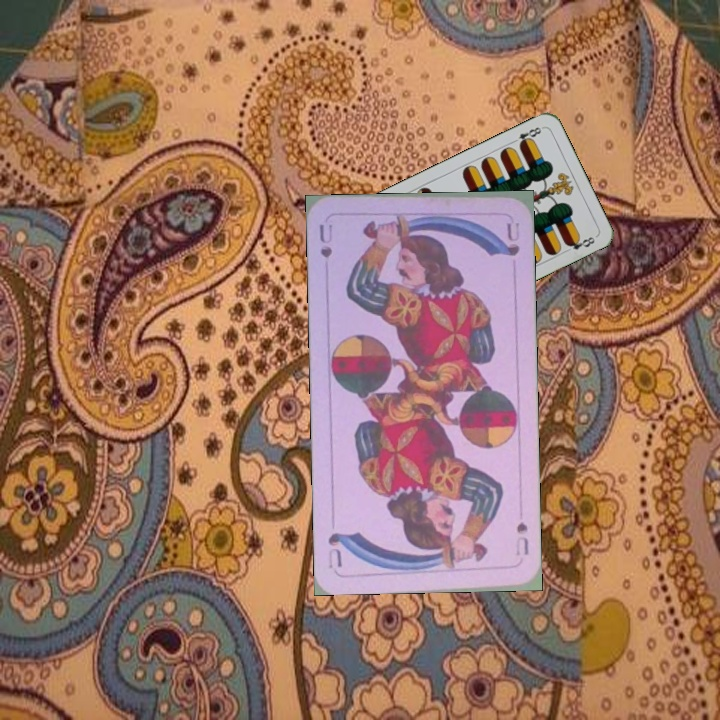E8: (507, 123, 546, 149)
SU: (315, 220, 335, 261), (512, 518, 531, 559)
